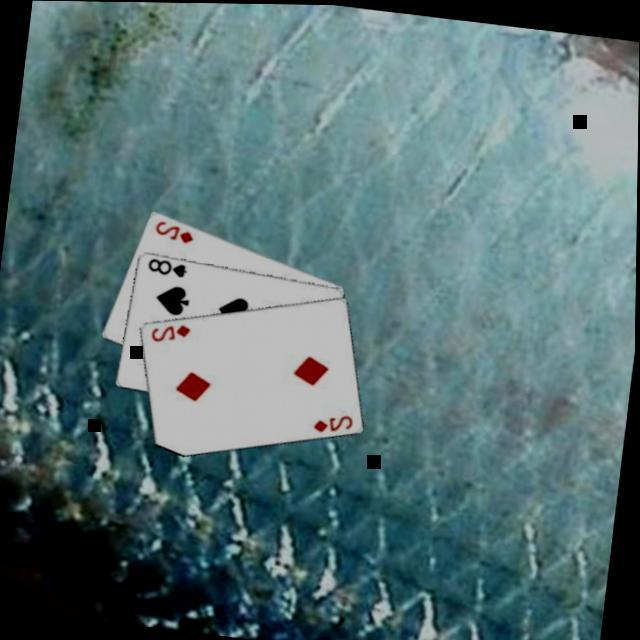2D: (146, 317, 192, 348), (150, 218, 197, 248), (309, 409, 355, 439)
8S: (143, 255, 190, 281)
